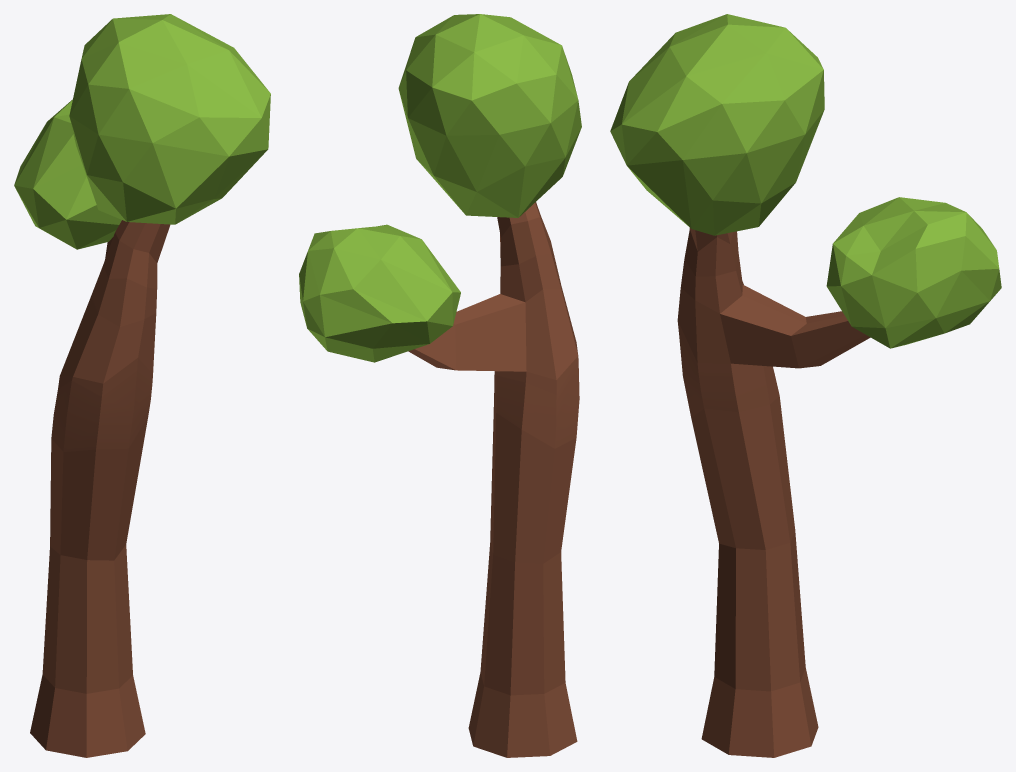
File: Boom_2.fbx
3 views of the same model, side by side, from view 1: azimuth 30°, elevation 25°; view 2: azimuth 150°, elevation 25°; view 3: azimuth 270°, elevation 25° (orthographic). The views are drawn at different scales.
Parts seen in each view (by area): view 1: Mesh1; view 2: Mesh1; view 3: Mesh1.
Boxes of the visible parts, box(x1,y1,x2,y2) form: Mesh1: box(14, 14, 270, 757); Mesh1: box(299, 14, 581, 757); Mesh1: box(610, 14, 1001, 757).
Size of the model in its own units: 0.0116 by 0.0395 by 0.019.
